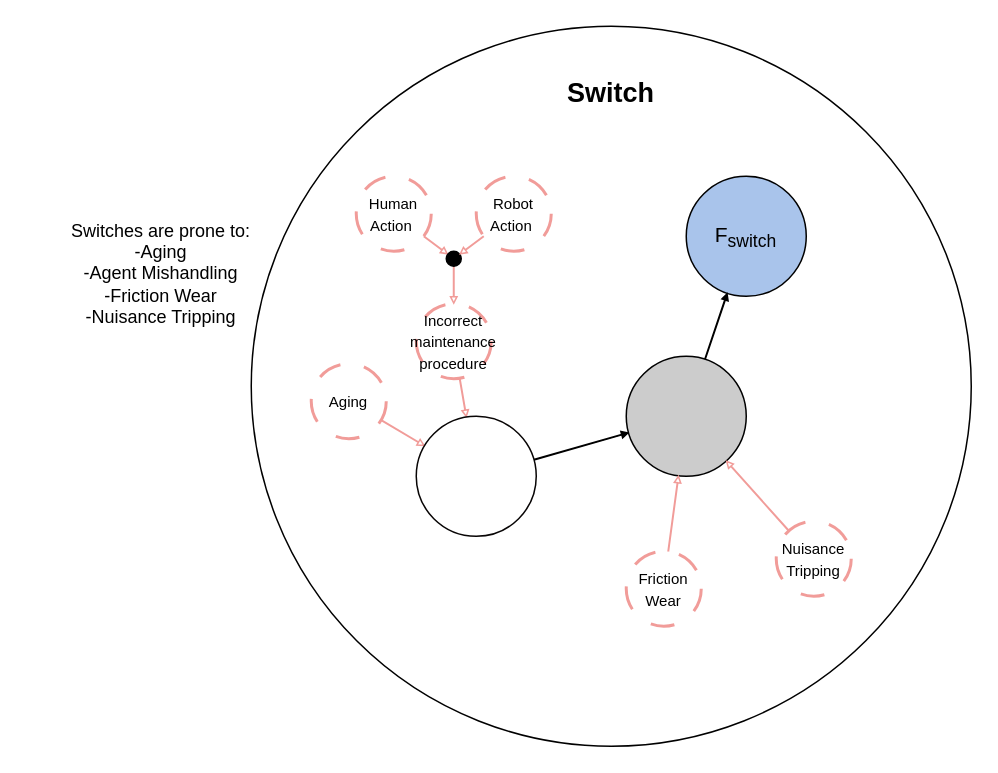
Image size: 998x773. Some labels were removed from this diagram. Each missing label, with the box of its shape:
H switch: (625, 355, 746, 476)
V damage: (415, 415, 536, 536)
